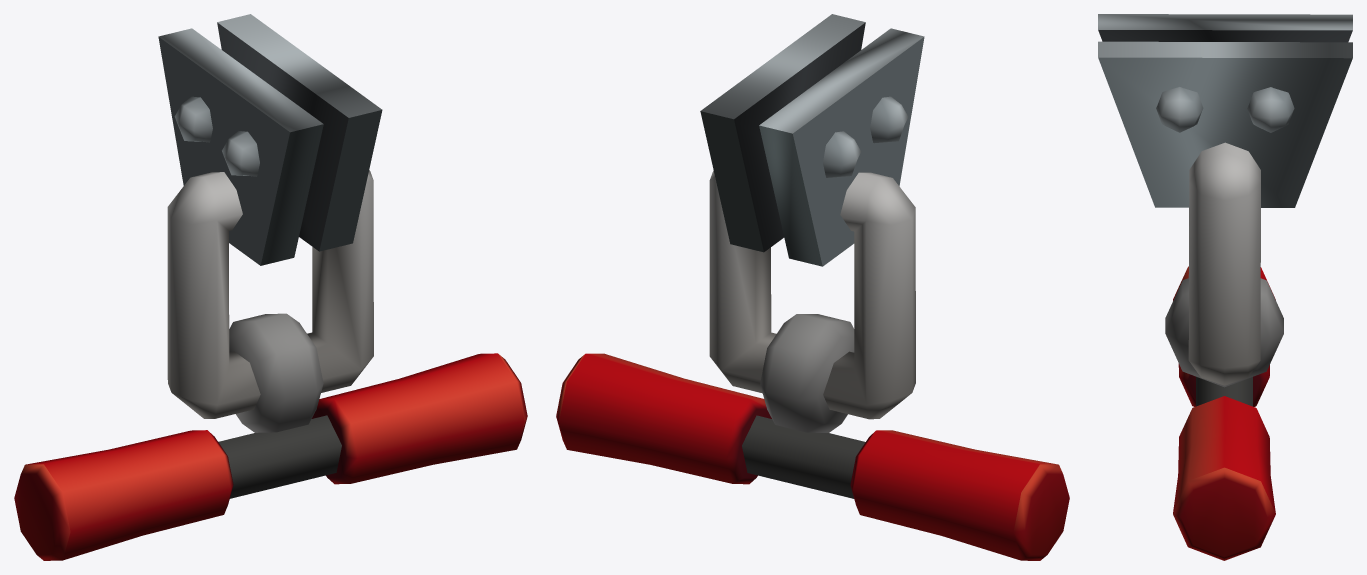
Rendered from ZiplineHandle_11.glb.
The picture shows the model from 3 angles, left to right: view 1: azimuth 30°, elevation 25°; view 2: azimuth 150°, elevation 25°; view 3: azimuth 270°, elevation 25°; orthographic projection. The views are drawn at different scales.
Parts seen in each view (by area): view 1: ZiplineHandle; view 2: ZiplineHandle; view 3: ZiplineHandle.
Part boxes in pixels (x1=…): ZiplineHandle: x1=14, y1=14, x2=527, y2=560; ZiplineHandle: x1=556, y1=14, x2=1069, y2=560; ZiplineHandle: x1=1098, y1=14, x2=1352, y2=560.
Bounding box in the file's own units: 0.7621 × 0.6713 × 0.3709.
